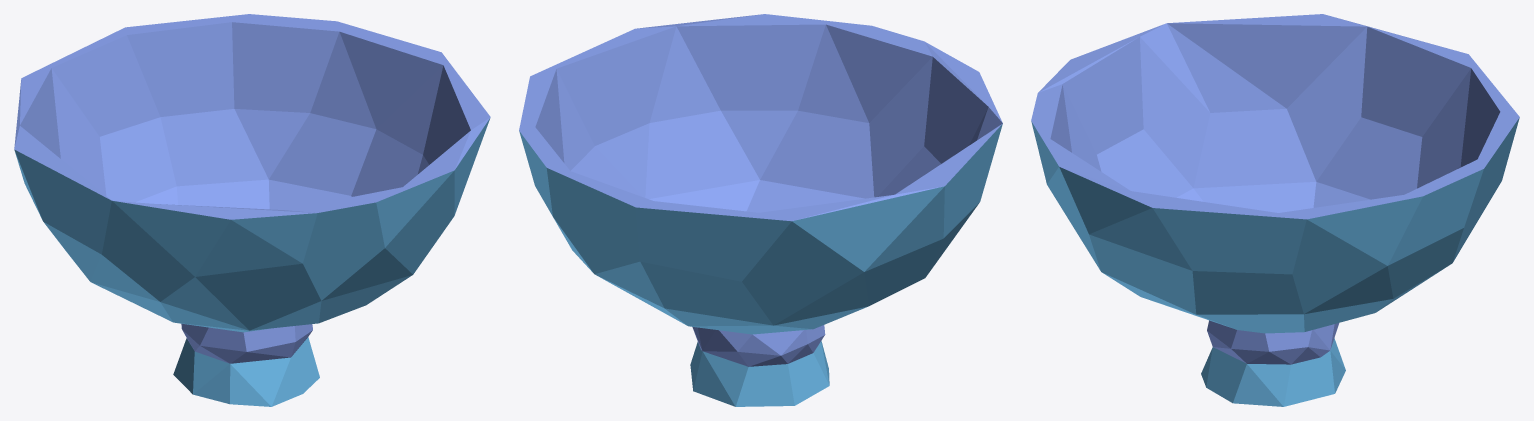
The model's file is BowlBlue.fbx.
3 views of the same model, side by side, from view 1: azimuth 30°, elevation 25°; view 2: azimuth 150°, elevation 25°; view 3: azimuth 270°, elevation 25° (orthographic).
Parts seen in each view (by area): view 1: BowlLowPolyBlue; view 2: BowlLowPolyBlue; view 3: BowlLowPolyBlue.
Boxes of the visible parts, box(x1,y1,x2,y2) form: BowlLowPolyBlue: box(14, 14, 490, 406); BowlLowPolyBlue: box(519, 14, 1002, 406); BowlLowPolyBlue: box(1031, 14, 1519, 406).
Bounding box in the file's own units: 14.8 × 9.01 × 14.83.
